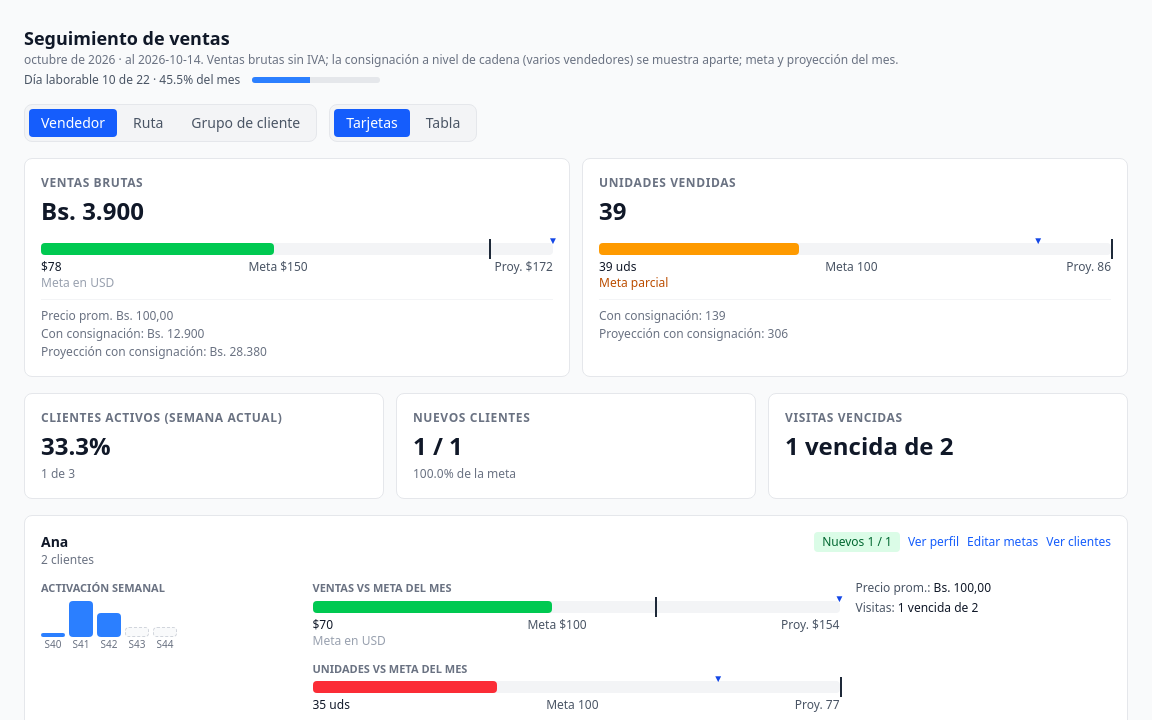
Scenario: TabSeguimiento › Bs currency shows Bs sales, but every figure compared with the USD goal stays in USD
Expected: the heading "Seguimiento de ventas" is shown, left=24, top=26, right=230, bottom=50
Expected: the text "Bs. 3.900" is shown, left=41, top=194, right=144, bottom=227
Click the button "Tabla".
click(443, 123)  # box left=414, top=109, right=472, bottom=137
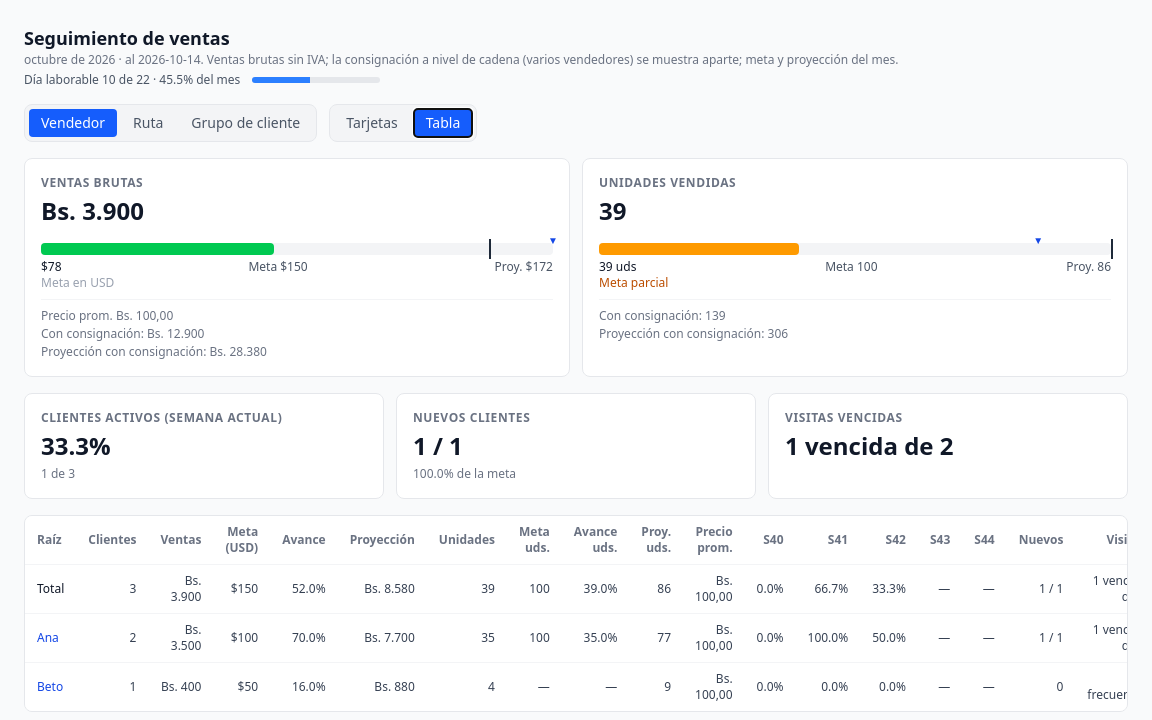
Expected: the column heading "Meta (USD)" is shown, left=214, top=516, right=270, bottom=564
